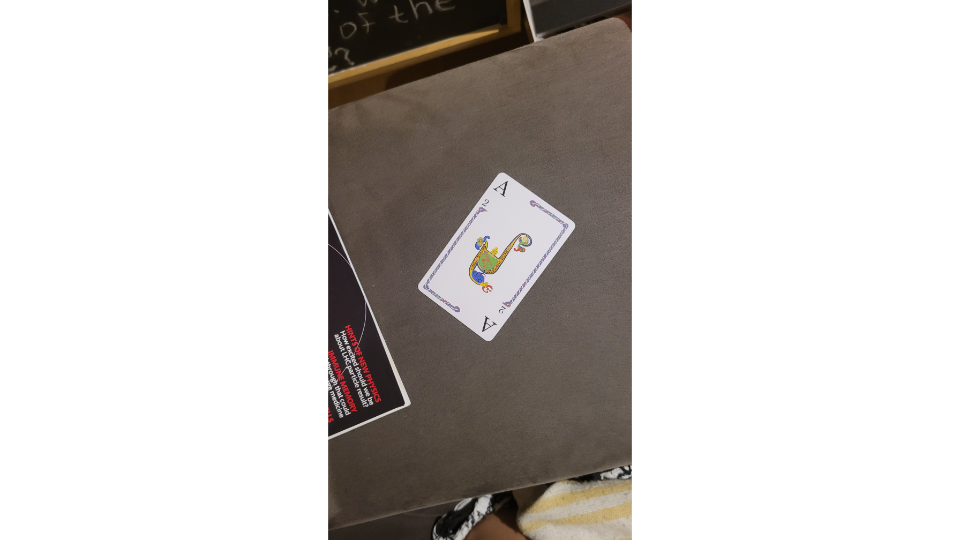A: (414, 169, 579, 346)
